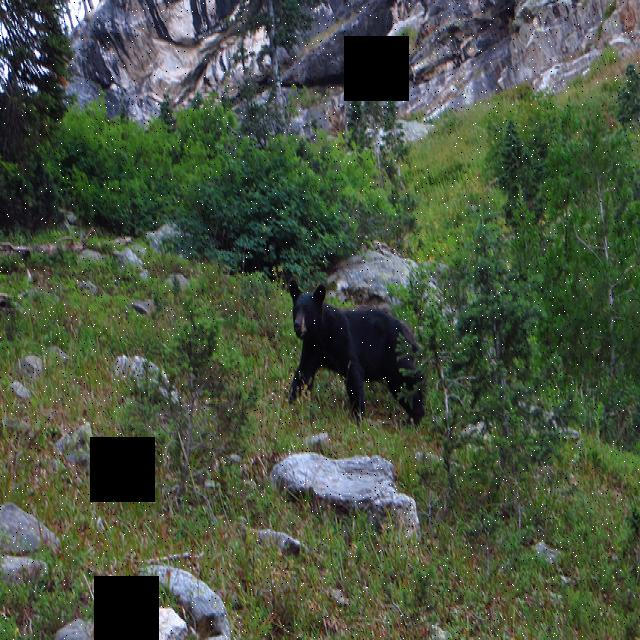Bear: (285, 274, 432, 421)
